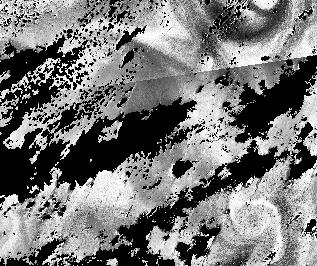CE: (229, 196, 281, 242)
